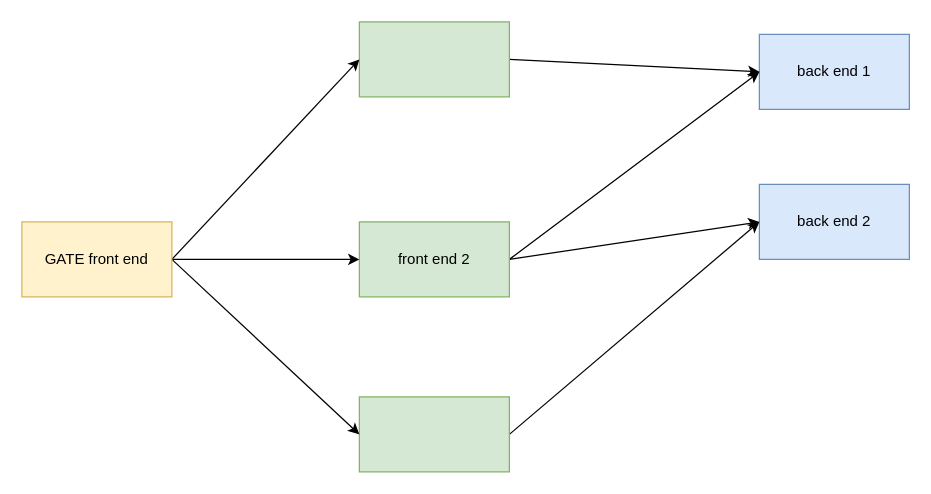
Some shapes in this 931 by 494 pixel diagram are drawn without their labels. The centre of each missing label's shape, as x and y in pixels:
"front end 1" goes at (x=433, y=59).
"front end 3" goes at (x=433, y=434).
